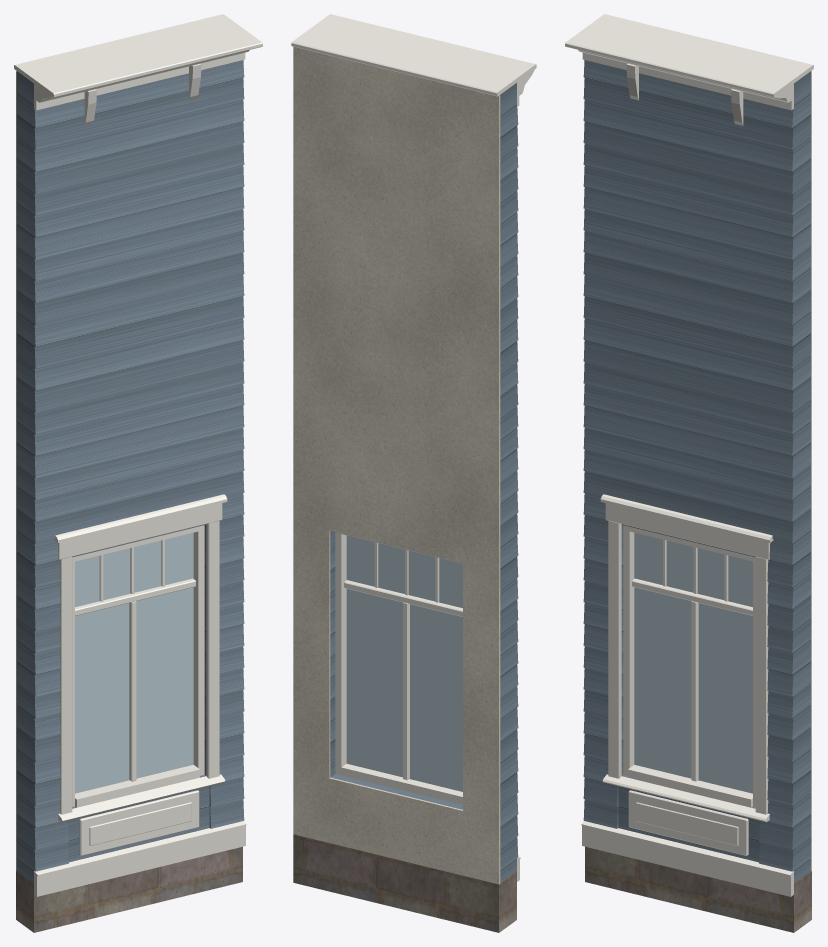
File: front_display.glb
The picture shows the model from 3 angles, left to right: view 1: azimuth 30°, elevation 25°; view 2: azimuth 150°, elevation 25°; view 3: azimuth 330°, elevation 25°; orthographic projection.
Parts seen in each view (by area): view 1: front_display_siding, front_display_trim, front_display_glass, front_display_stone, front_display_frame, front_display_plaster; view 2: front_display_plaster, front_display_glass, front_display_siding, front_display_stone, front_display_trim, front_display_frame; view 3: front_display_siding, front_display_trim, front_display_glass, front_display_stone, front_display_frame, front_display_plaster.
Boxes of the visible parts, x1,y1,x2,y2 form: front_display_siding: (17,60,244,883); front_display_trim: (14,14,262,896); front_display_glass: (75,532,193,793); front_display_stone: (16,846,242,932); front_display_frame: (72,525,204,806); front_display_plaster: (16,70,16,870); front_display_plaster: (293,46,500,884); front_display_glass: (346,535,462,791); front_display_siding: (330,83,518,883); front_display_stone: (293,834,516,932); front_display_trim: (291,14,536,881); front_display_frame: (335,532,462,804); front_display_siding: (583,60,810,883); front_display_trim: (565,14,813,896); front_display_glass: (634,532,752,793); front_display_stone: (585,846,811,932); front_display_frame: (623,525,755,806); front_display_plaster: (811,70,811,870).
Bounding box in the file's own units: 2 × 7.81 × 0.66.
Materials: 6 (3 with a texture image).
